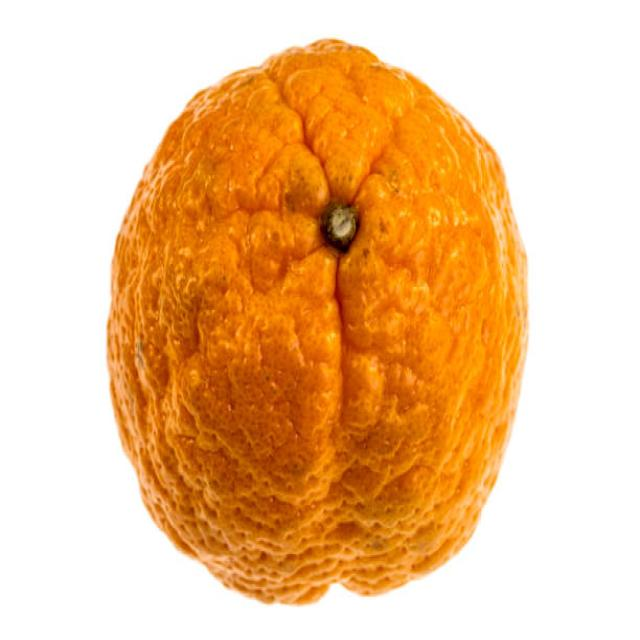overripe: (97, 30, 536, 610)
